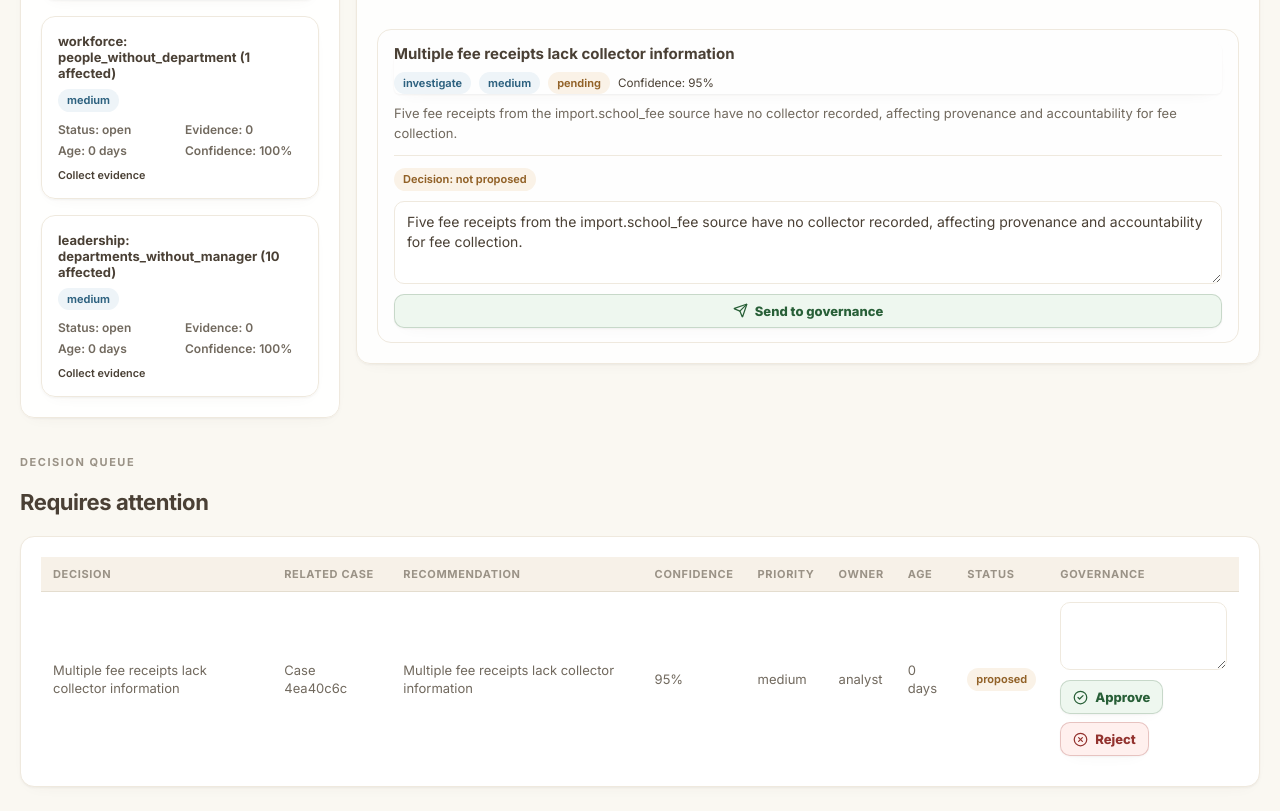
Test: Deliberation workspace — Fee Intelligence card › approves a queued decision through the gated decision endpoint
(page scrolled)
Expected: the text "Decision Queue" is shown, [20,455,135,469]
Step 1. Click the button "Approve" → (1112, 698), box [1060,680,1163,714]
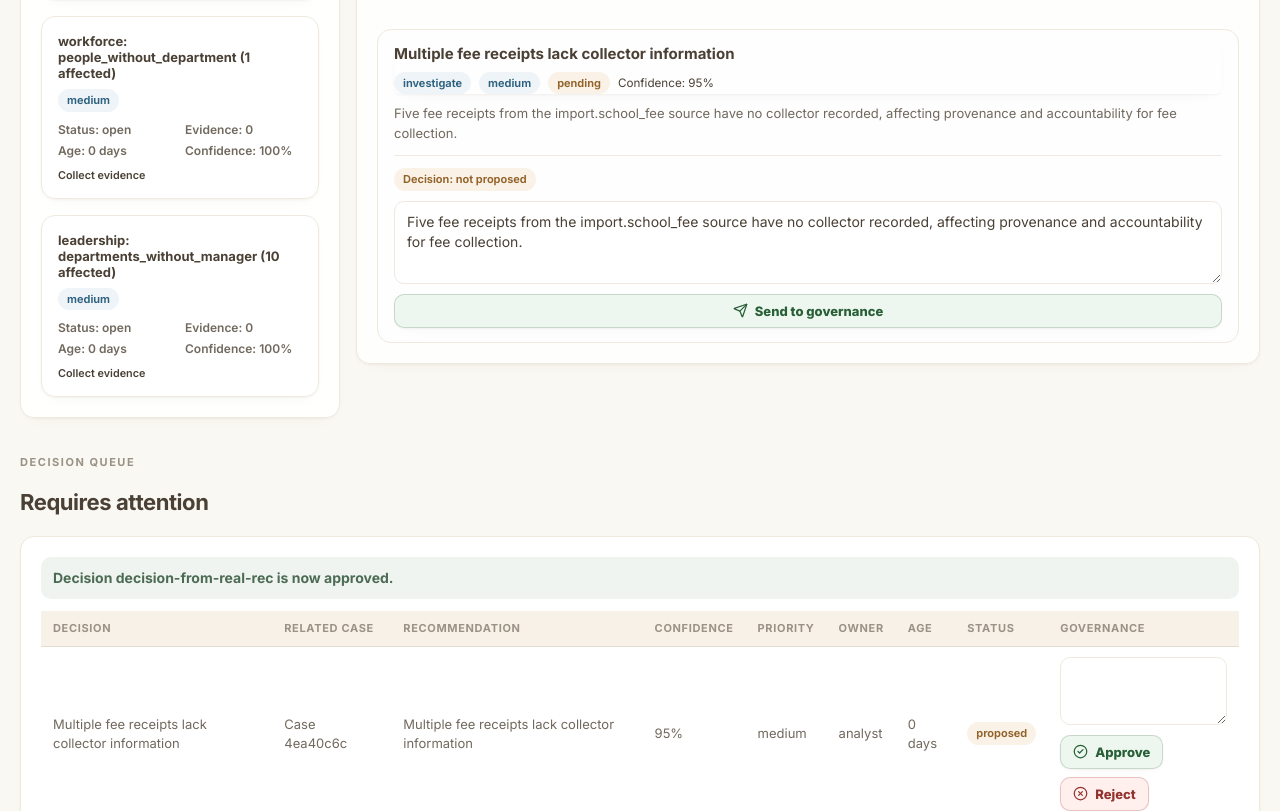
Expected: the text "Decision decision-from-real-rec is now approved." is shown, [41,557,1239,599]
